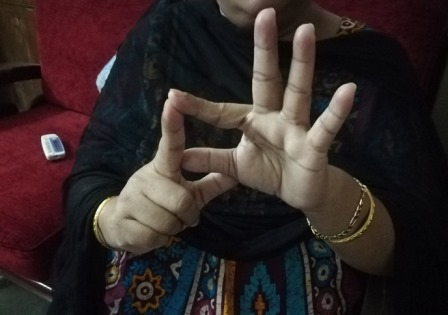k: (156, 7, 355, 224)
